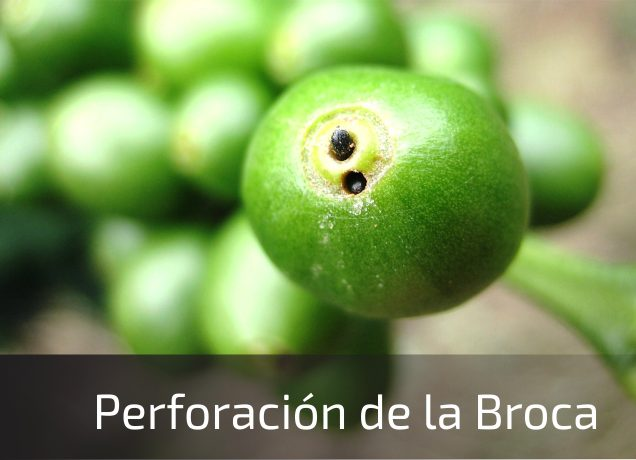broca de cafe: (278, 56, 535, 326)
